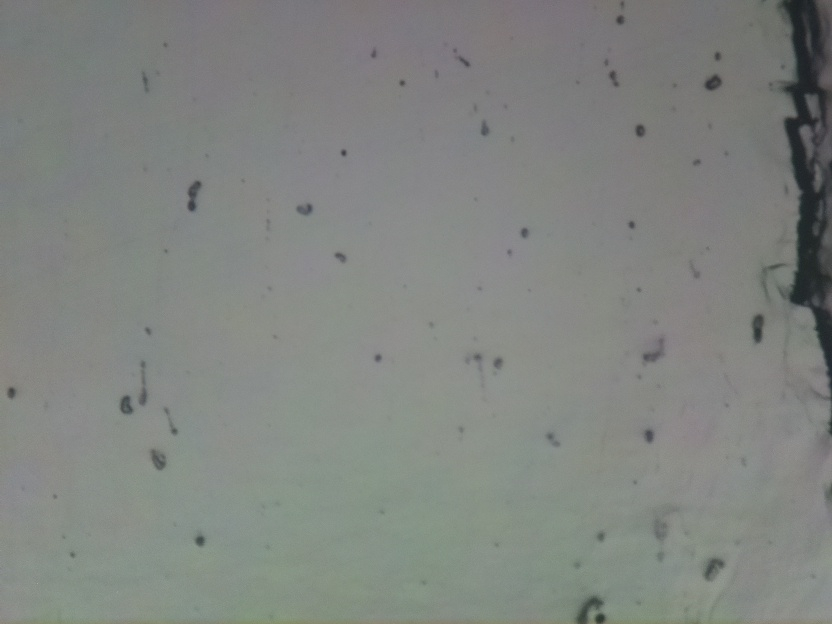crack: (785, 0, 832, 381)
